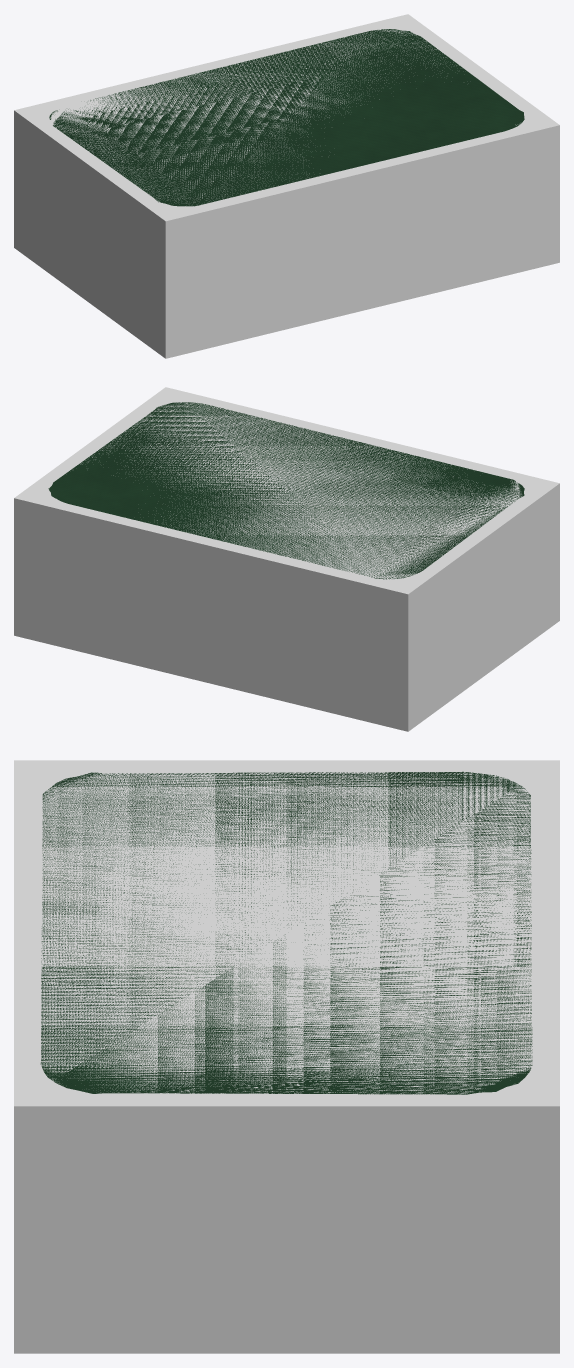
The model's file is ScrubSponge.fbx.
3 views of the same model, one above another, from view 1: azimuth 30°, elevation 25°; view 2: azimuth 150°, elevation 25°; view 3: azimuth 270°, elevation 25° (orthographic). The views are drawn at different scales.
Visible parts, largest first — view 1: COL_ScrubSponge, ScrubSponge; view 2: COL_ScrubSponge, ScrubSponge; view 3: COL_ScrubSponge, ScrubSponge.
Boxes of the visible parts, bbox=[...] form: COL_ScrubSponge: bbox=[14, 14, 559, 358]; ScrubSponge: bbox=[49, 29, 524, 206]; COL_ScrubSponge: bbox=[14, 387, 559, 731]; ScrubSponge: bbox=[48, 402, 524, 579]; COL_ScrubSponge: bbox=[14, 760, 559, 1353]; ScrubSponge: bbox=[40, 771, 532, 1094].
Size of the model in its own units: 0.09 by 0.03 by 0.06.
Materials: 2 (2 with a texture image).
